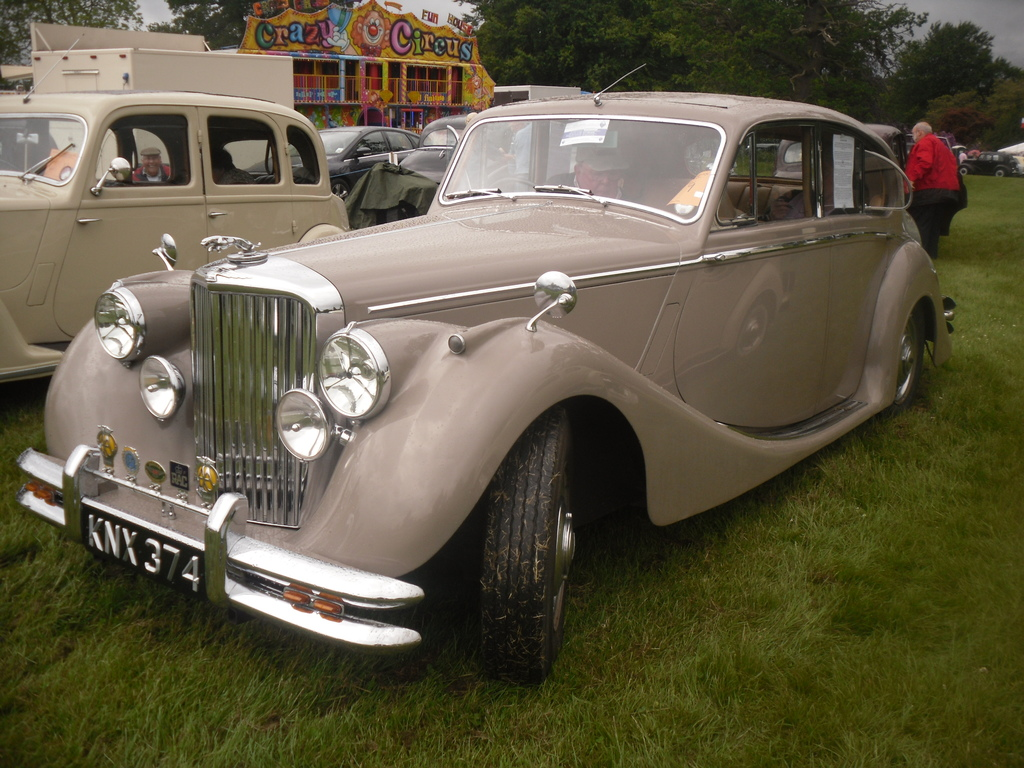Car: (0, 37, 964, 685), (957, 151, 1020, 179)
